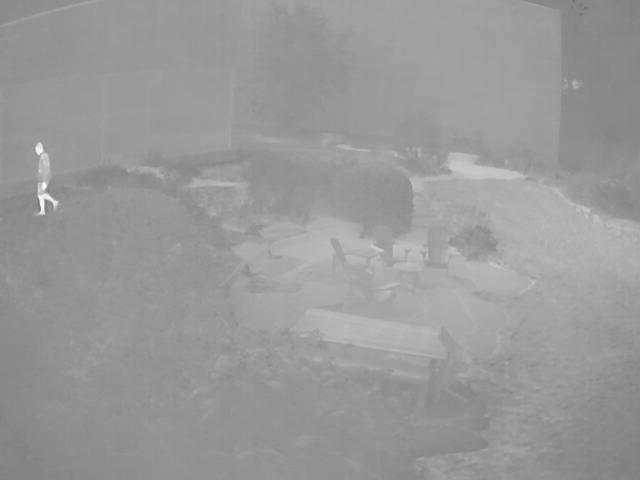person: (34, 142, 59, 217)
